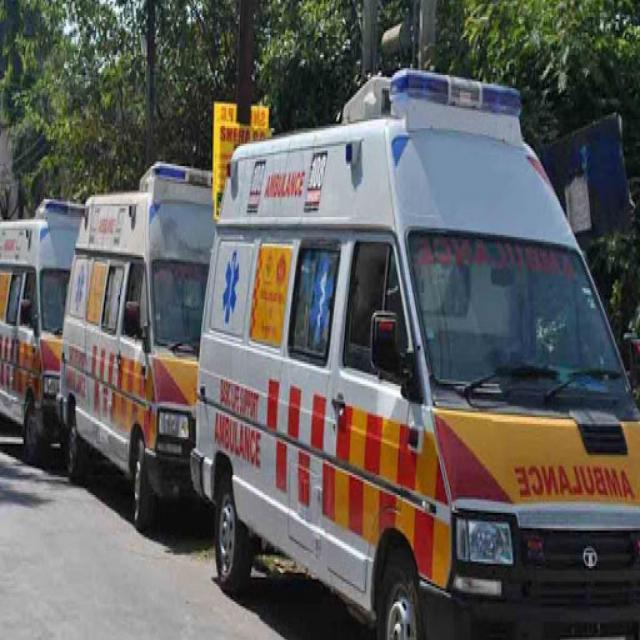emergency: (191, 69, 640, 638), (61, 162, 214, 531), (0, 200, 84, 463)
